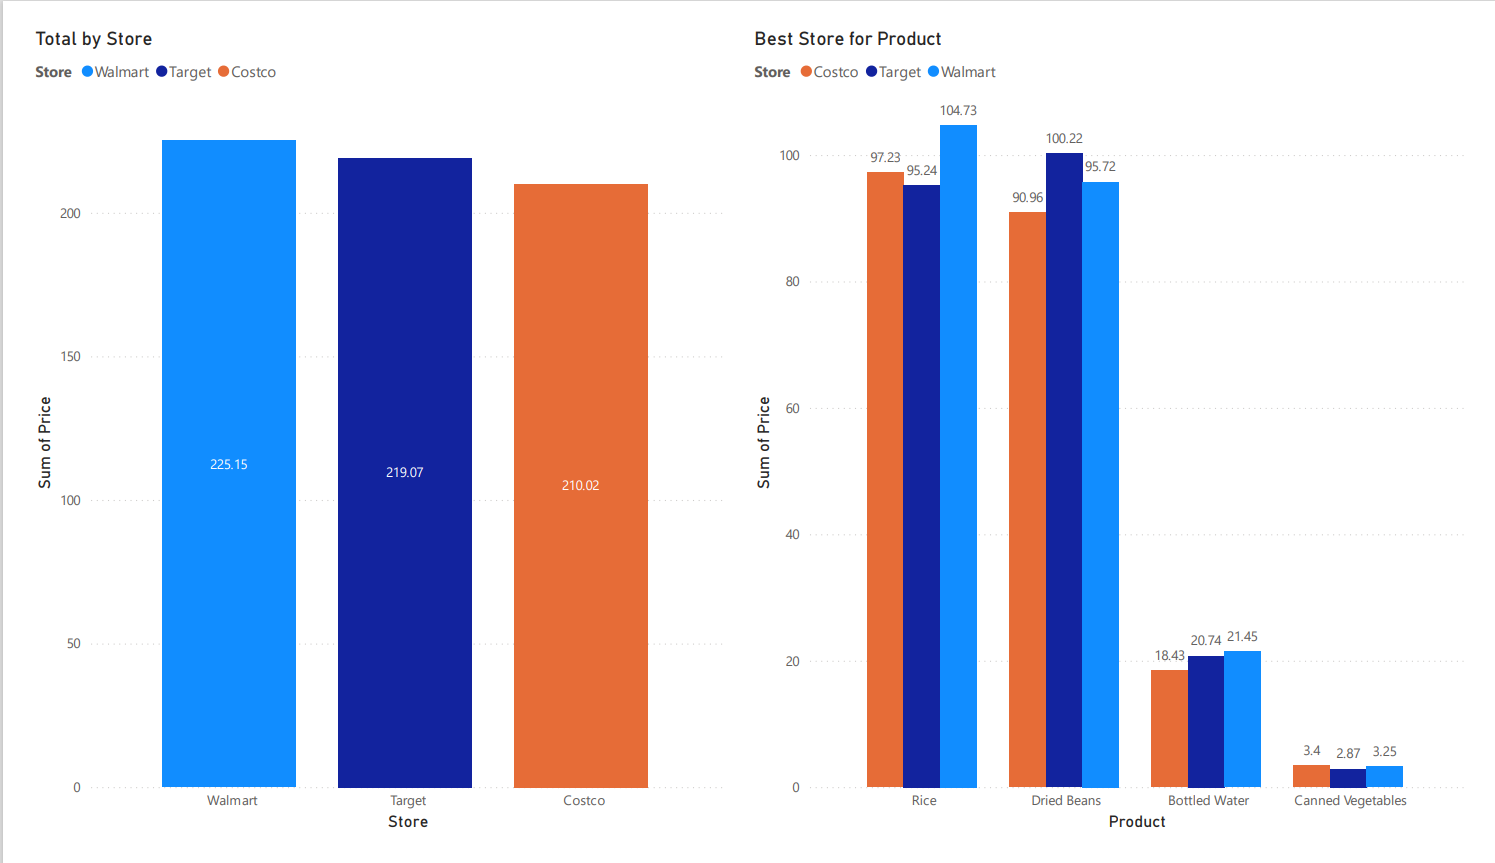

The page's visual inventory and layout, read from the dashboard file:
{"tool":"powerbi","page":{"name":"Page 1","canvas":[1280,720],"ordinal":0},"visuals":[{"type":"columnChart","title":"Total by Store","fields":{"Category":["Sheet1.Store"],"Y":["Sum(Sheet1.Price)"],"Series":["Sheet1.Store"]},"box":[0,0,622.5,719],"z":0},{"type":"clusteredColumnChart","title":"Best Store for Product","fields":{"Category":["Sheet1.Product"],"Y":["Sum(Sheet1.Price)"],"Series":["Sheet1.Store"]},"box":[639.4,0,640.6,719],"z":1000}]}

Visuals, with their boxes in screenshot pixels (x1, y1, x2, y2), scaled from the page's 1280x720 canvas onto the 1495x863 screenshot:
"Total by Store" columnChart: box(0, 0, 727, 862)
"Best Store for Product" clusteredColumnChart: box(747, 0, 1494, 862)
